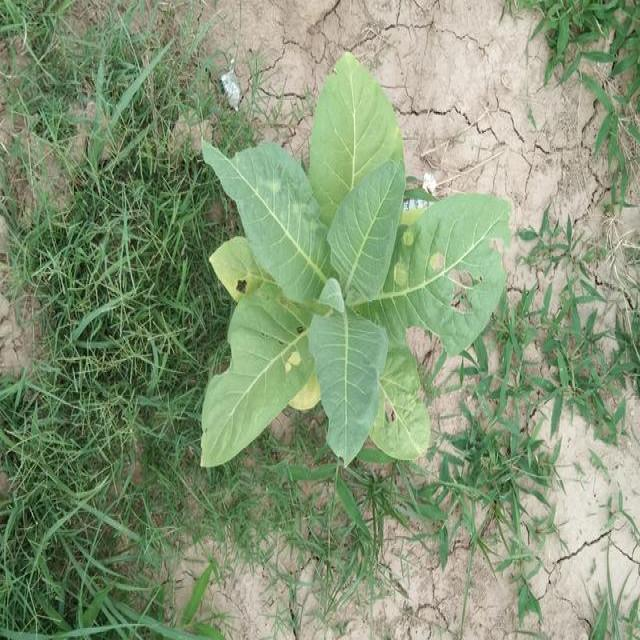crop: (199, 51, 509, 481)
